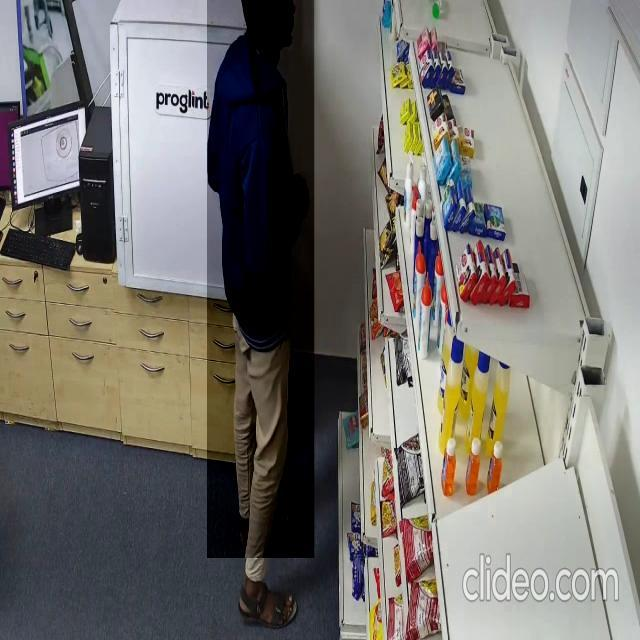Shoplifting: (208, 0, 316, 558)
